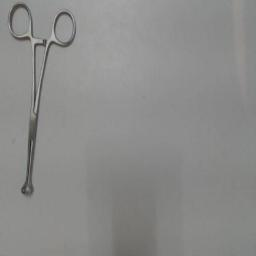Babcock Tissue Forceps: (6, 0, 78, 200)
